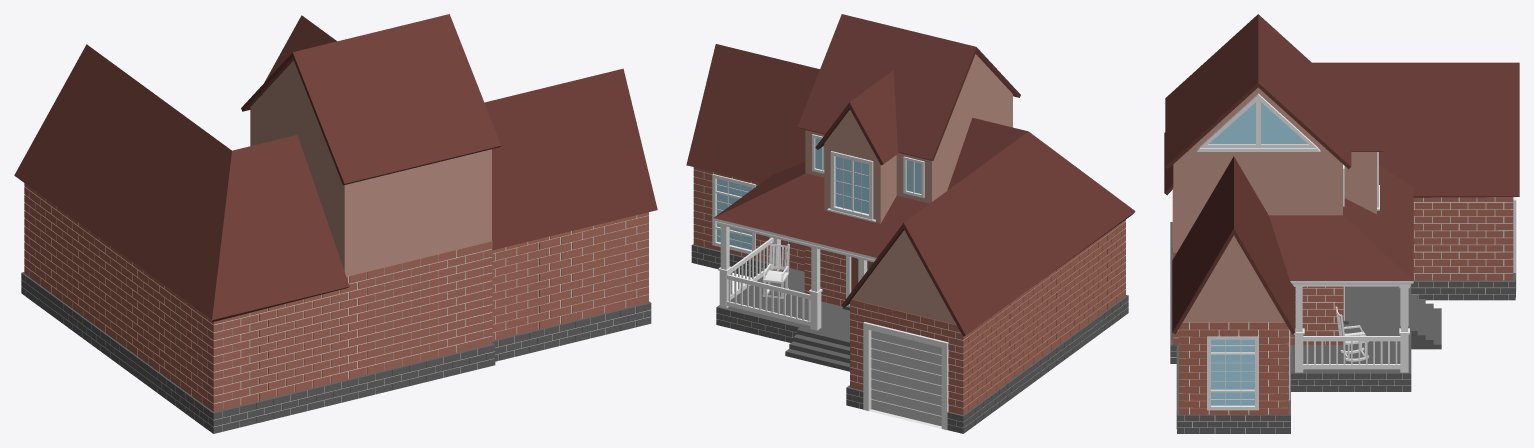
The model's file is house3-transformed.glb.
The picture shows the model from 3 angles, left to right: view 1: azimuth 30°, elevation 25°; view 2: azimuth 150°, elevation 25°; view 3: azimuth 270°, elevation 25°; orthographic projection. The views are drawn at different scales.
Visible parts, largest first — view 1: building.058; view 2: building.058; view 3: building.058.
Part boxes in pixels (<box>): building.058: <box>14,14,657,433</box>; building.058: <box>686,14,1135,433</box>; building.058: <box>1164,14,1519,433</box>.
Bounding box in the file's own units: 13.76 × 9.19 × 10.47.
1 material, 1 textured.
